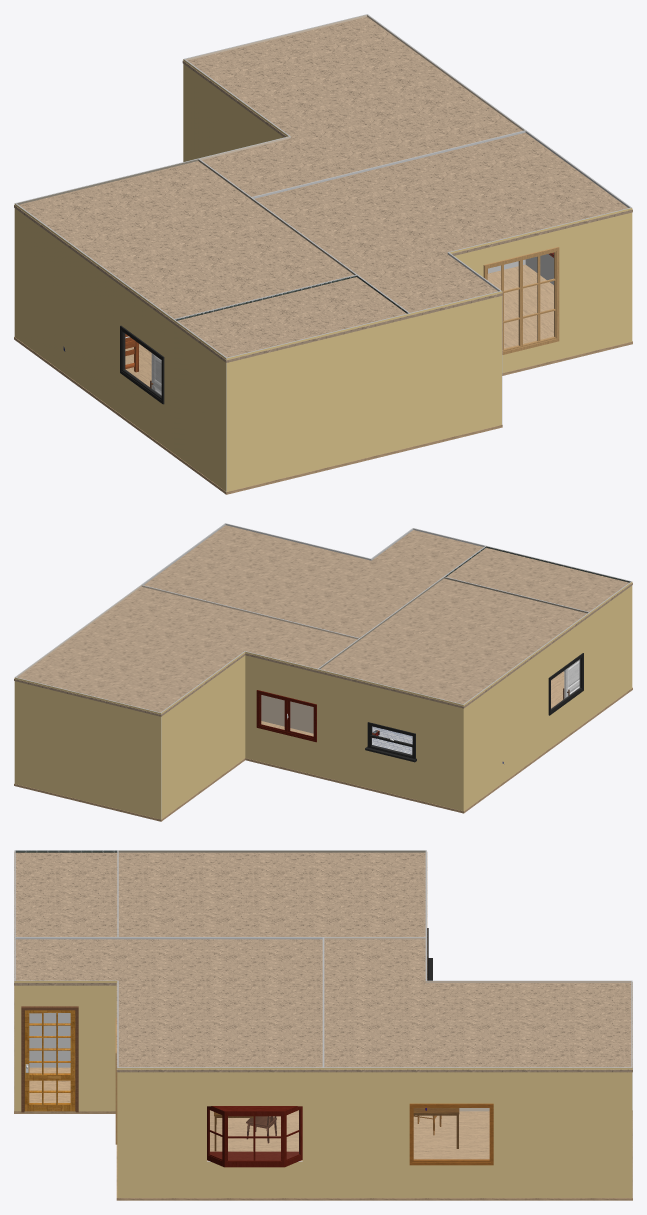
Rendered from ProcTHOR-Train-184.glb.
3 views of the same model, one above another, from view 1: azimuth 30°, elevation 25°; view 2: azimuth 150°, elevation 25°; view 3: azimuth 270°, elevation 25° (orthographic). The views are drawn at different scales.
Parts seen in each view (by area): view 1: Ceiling#room|7|c, Ceiling#room|6|c, Ceiling#room|4|c, WallInside#wall|exterior|5.59|11.19|9.32|11.19, WallInside#wall|exterior|9.32|3.73|9.32|9.32, WallInside#wall|exterior|0.00|9.32|3.73|9.32, WallInside#wall|exterior|3.73|11.19|5.59|11.19, Ceiling#room|5|c, WallInside#wall|exterior|9.32|9.32|9.32|11.19, WallInside#wall|exterior|3.73|0.00|3.73|3.73, Floor#room|7|f, Window_Fixed_60x72 (+5 smaller); view 2: Ceiling#room|6|c, Ceiling#room|7|c, Ceiling#room|4|c, WallInside#wall|exterior|0.00|0.00|3.73|0.00, WallInside#wall|exterior|5.59|3.73|9.32|3.73, WallInside#wall|exterior|9.32|3.73|9.32|9.32, WallInside#wall|exterior|3.73|0.00|3.73|3.73, Ceiling#room|5|c, WallInside#wall|exterior|3.73|3.73|5.59|3.73, WallInside#wall|exterior|9.32|9.32|9.32|11.19, WallInside#wall|6|0.00|5.59|5.59|5.59, Window_Slider_60x36 (+7 smaller); view 3: WallInside#wall|exterior|0.00|0.00|0.00|5.59, Ceiling#room|7|c, Ceiling#room|6|c, Ceiling#room|4|c, WallInside#wall|exterior|0.00|5.59|0.00|9.32, Ceiling#room|5|c, WallInside#wall|exterior|3.73|9.32|3.73|11.19, Floor#room|7|f, Floor#room|6|f, Doorway_5, Window_Bay_2, WallInside#wall|7|5.59|9.32|5.59|11.19 (+4 smaller).
Boxes of the visible parts, x1,y1,x2,y2 form: Ceiling#room|7|c: [255, 133, 632, 317]; Ceiling#room|6|c: [182, 16, 525, 199]; Ceiling#room|4|c: [14, 161, 353, 323]; WallInside#wall|exterior|5.59|11.19|9.32|11.19: [226, 313, 410, 491]; WallInside#wall|exterior|9.32|3.73|9.32|9.32: [14, 203, 173, 452]; WallInside#wall|exterior|0.00|9.32|3.73|9.32: [449, 207, 632, 372]; WallInside#wall|exterior|3.73|11.19|5.59|11.19: [409, 291, 501, 446]; Ceiling#room|5|c: [173, 277, 411, 362]; WallInside#wall|exterior|9.32|9.32|9.32|11.19: [173, 319, 226, 491]; WallInside#wall|exterior|3.73|0.00|3.73|3.73: [183, 59, 289, 161]; Floor#room|7|f: [409, 264, 632, 449]; Window_Fixed_60x72: [483, 247, 559, 354]; Ceiling#room|6|c: [14, 587, 359, 716]; Ceiling#room|7|c: [144, 525, 483, 637]; Ceiling#room|4|c: [316, 578, 590, 708]; WallInside#wall|exterior|0.00|0.00|3.73|0.00: [14, 677, 160, 819]; WallInside#wall|exterior|5.59|3.73|9.32|3.73: [317, 669, 463, 811]; WallInside#wall|exterior|9.32|3.73|9.32|9.32: [463, 612, 589, 810]; WallInside#wall|exterior|3.73|0.00|3.73|3.73: [161, 651, 245, 819]; Ceiling#room|5|c: [447, 548, 632, 615]; WallInside#wall|exterior|3.73|3.73|5.59|3.73: [245, 651, 317, 775]; WallInside#wall|exterior|9.32|9.32|9.32|11.19: [590, 581, 632, 718]; WallInside#wall|6|0.00|5.59|5.59|5.59: [141, 585, 358, 733]; Window_Slider_60x36: [256, 690, 316, 742]; WallInside#wall|exterior|0.00|0.00|0.00|5.59: [323, 1067, 632, 1197]; Ceiling#room|7|c: [14, 939, 324, 1072]; Ceiling#room|6|c: [322, 939, 632, 1072]; Ceiling#room|4|c: [116, 852, 427, 939]; WallInside#wall|exterior|0.00|5.59|0.00|9.32: [117, 1067, 323, 1197]; Ceiling#room|5|c: [14, 852, 118, 939]; WallInside#wall|exterior|3.73|9.32|3.73|11.19: [14, 981, 117, 1111]; Floor#room|7|f: [14, 1067, 324, 1200]; Floor#room|6|f: [322, 1110, 632, 1200]; Doorway_5: [21, 1006, 78, 1112]; Window_Bay_2: [207, 1106, 302, 1167]; WallInside#wall|7|5.59|9.32|5.59|11.19: [15, 937, 118, 1067].
Size of what is drawn, in the model's own units: 9.61 by 2.65 by 11.23.
Materials: 258 (108 with a texture image).
